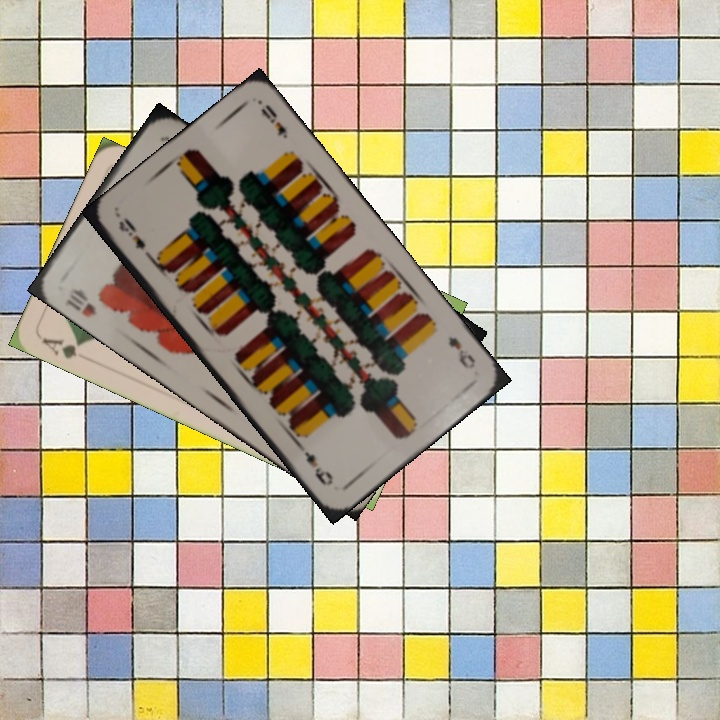E9: (114, 213, 157, 263), (444, 332, 478, 372)
GA: (38, 333, 85, 362)
H10: (61, 284, 100, 320)
